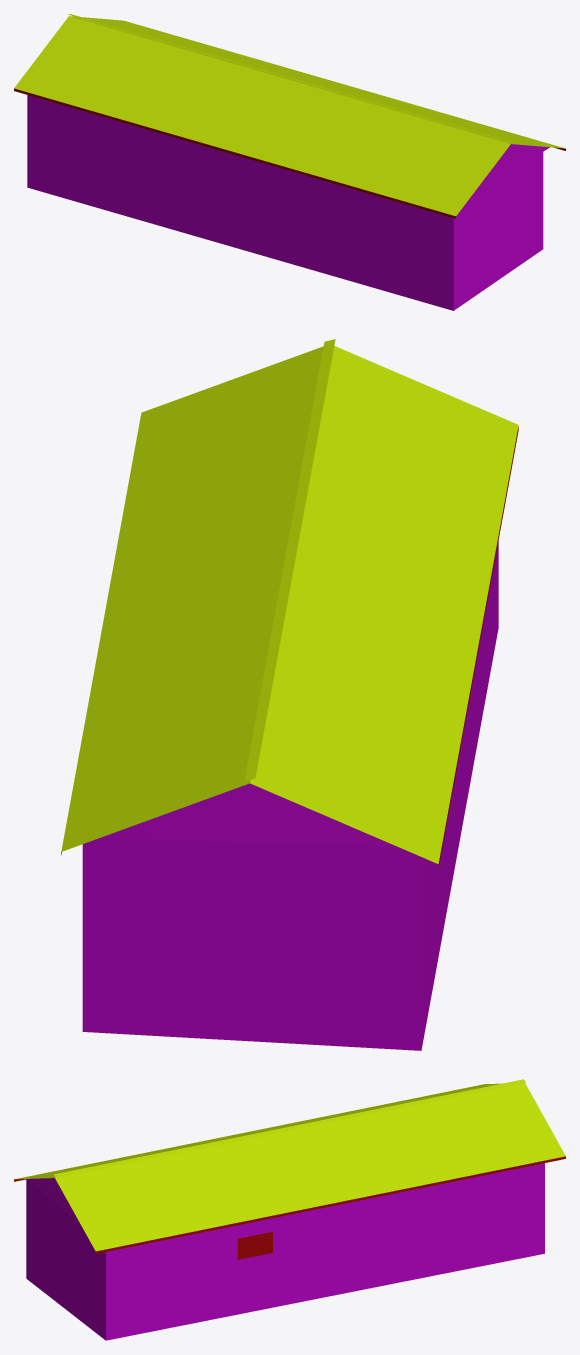
The picture shows the model from 3 angles, top to bottom: view 1: azimuth 30°, elevation 25°; view 2: azimuth 150°, elevation 25°; view 3: azimuth 270°, elevation 25°; orthographic projection. The views are drawn at different scales.
Visible parts, largest first — view 1: sc_7; view 2: sc_7; view 3: sc_7.
Part boxes in pixels (bbox=[...]): sc_7: bbox=[14, 14, 565, 310]; sc_7: bbox=[61, 339, 518, 1050]; sc_7: bbox=[14, 1079, 565, 1340].
Size of the model in its own units: 17.02 by 6.52 by 23.73.
